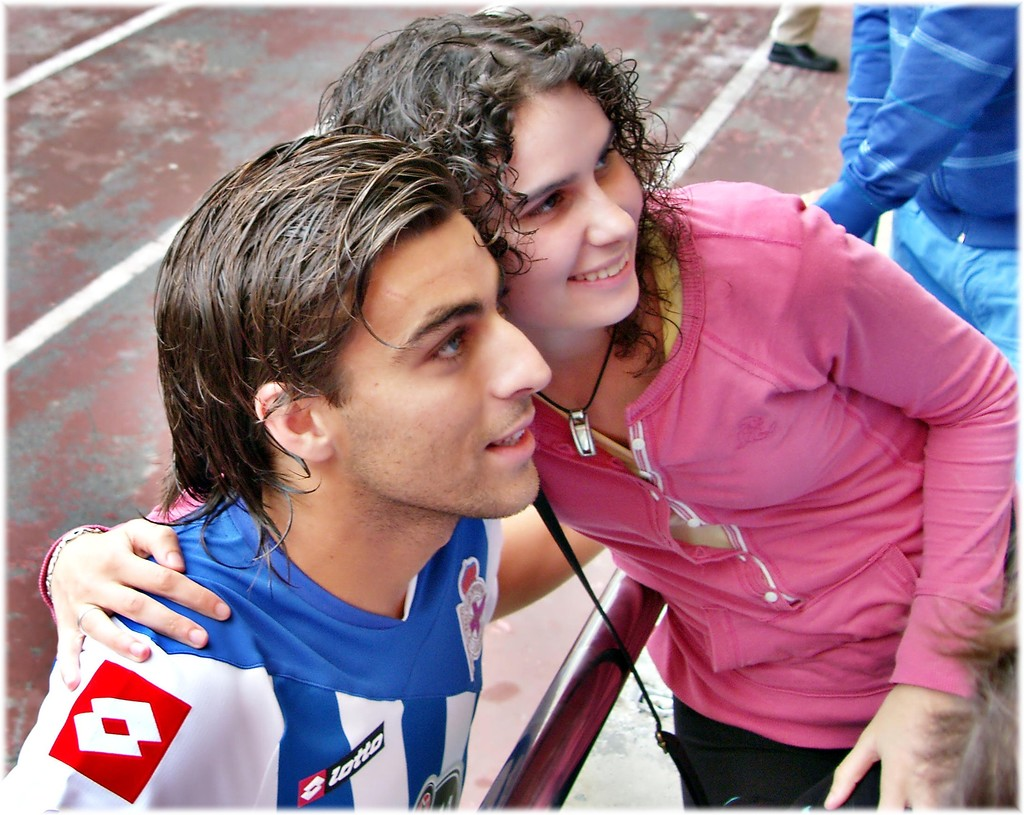Human_hand: (45, 520, 226, 695), (822, 683, 979, 814), (800, 186, 824, 202)
